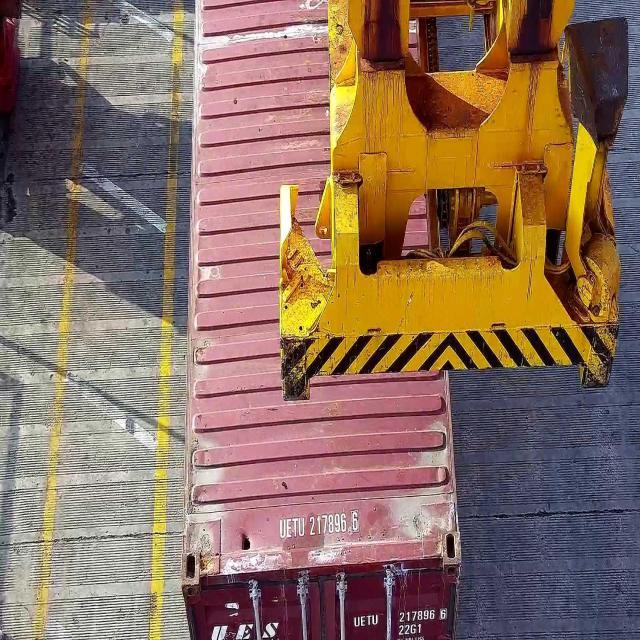hole: (241, 536, 252, 553)
